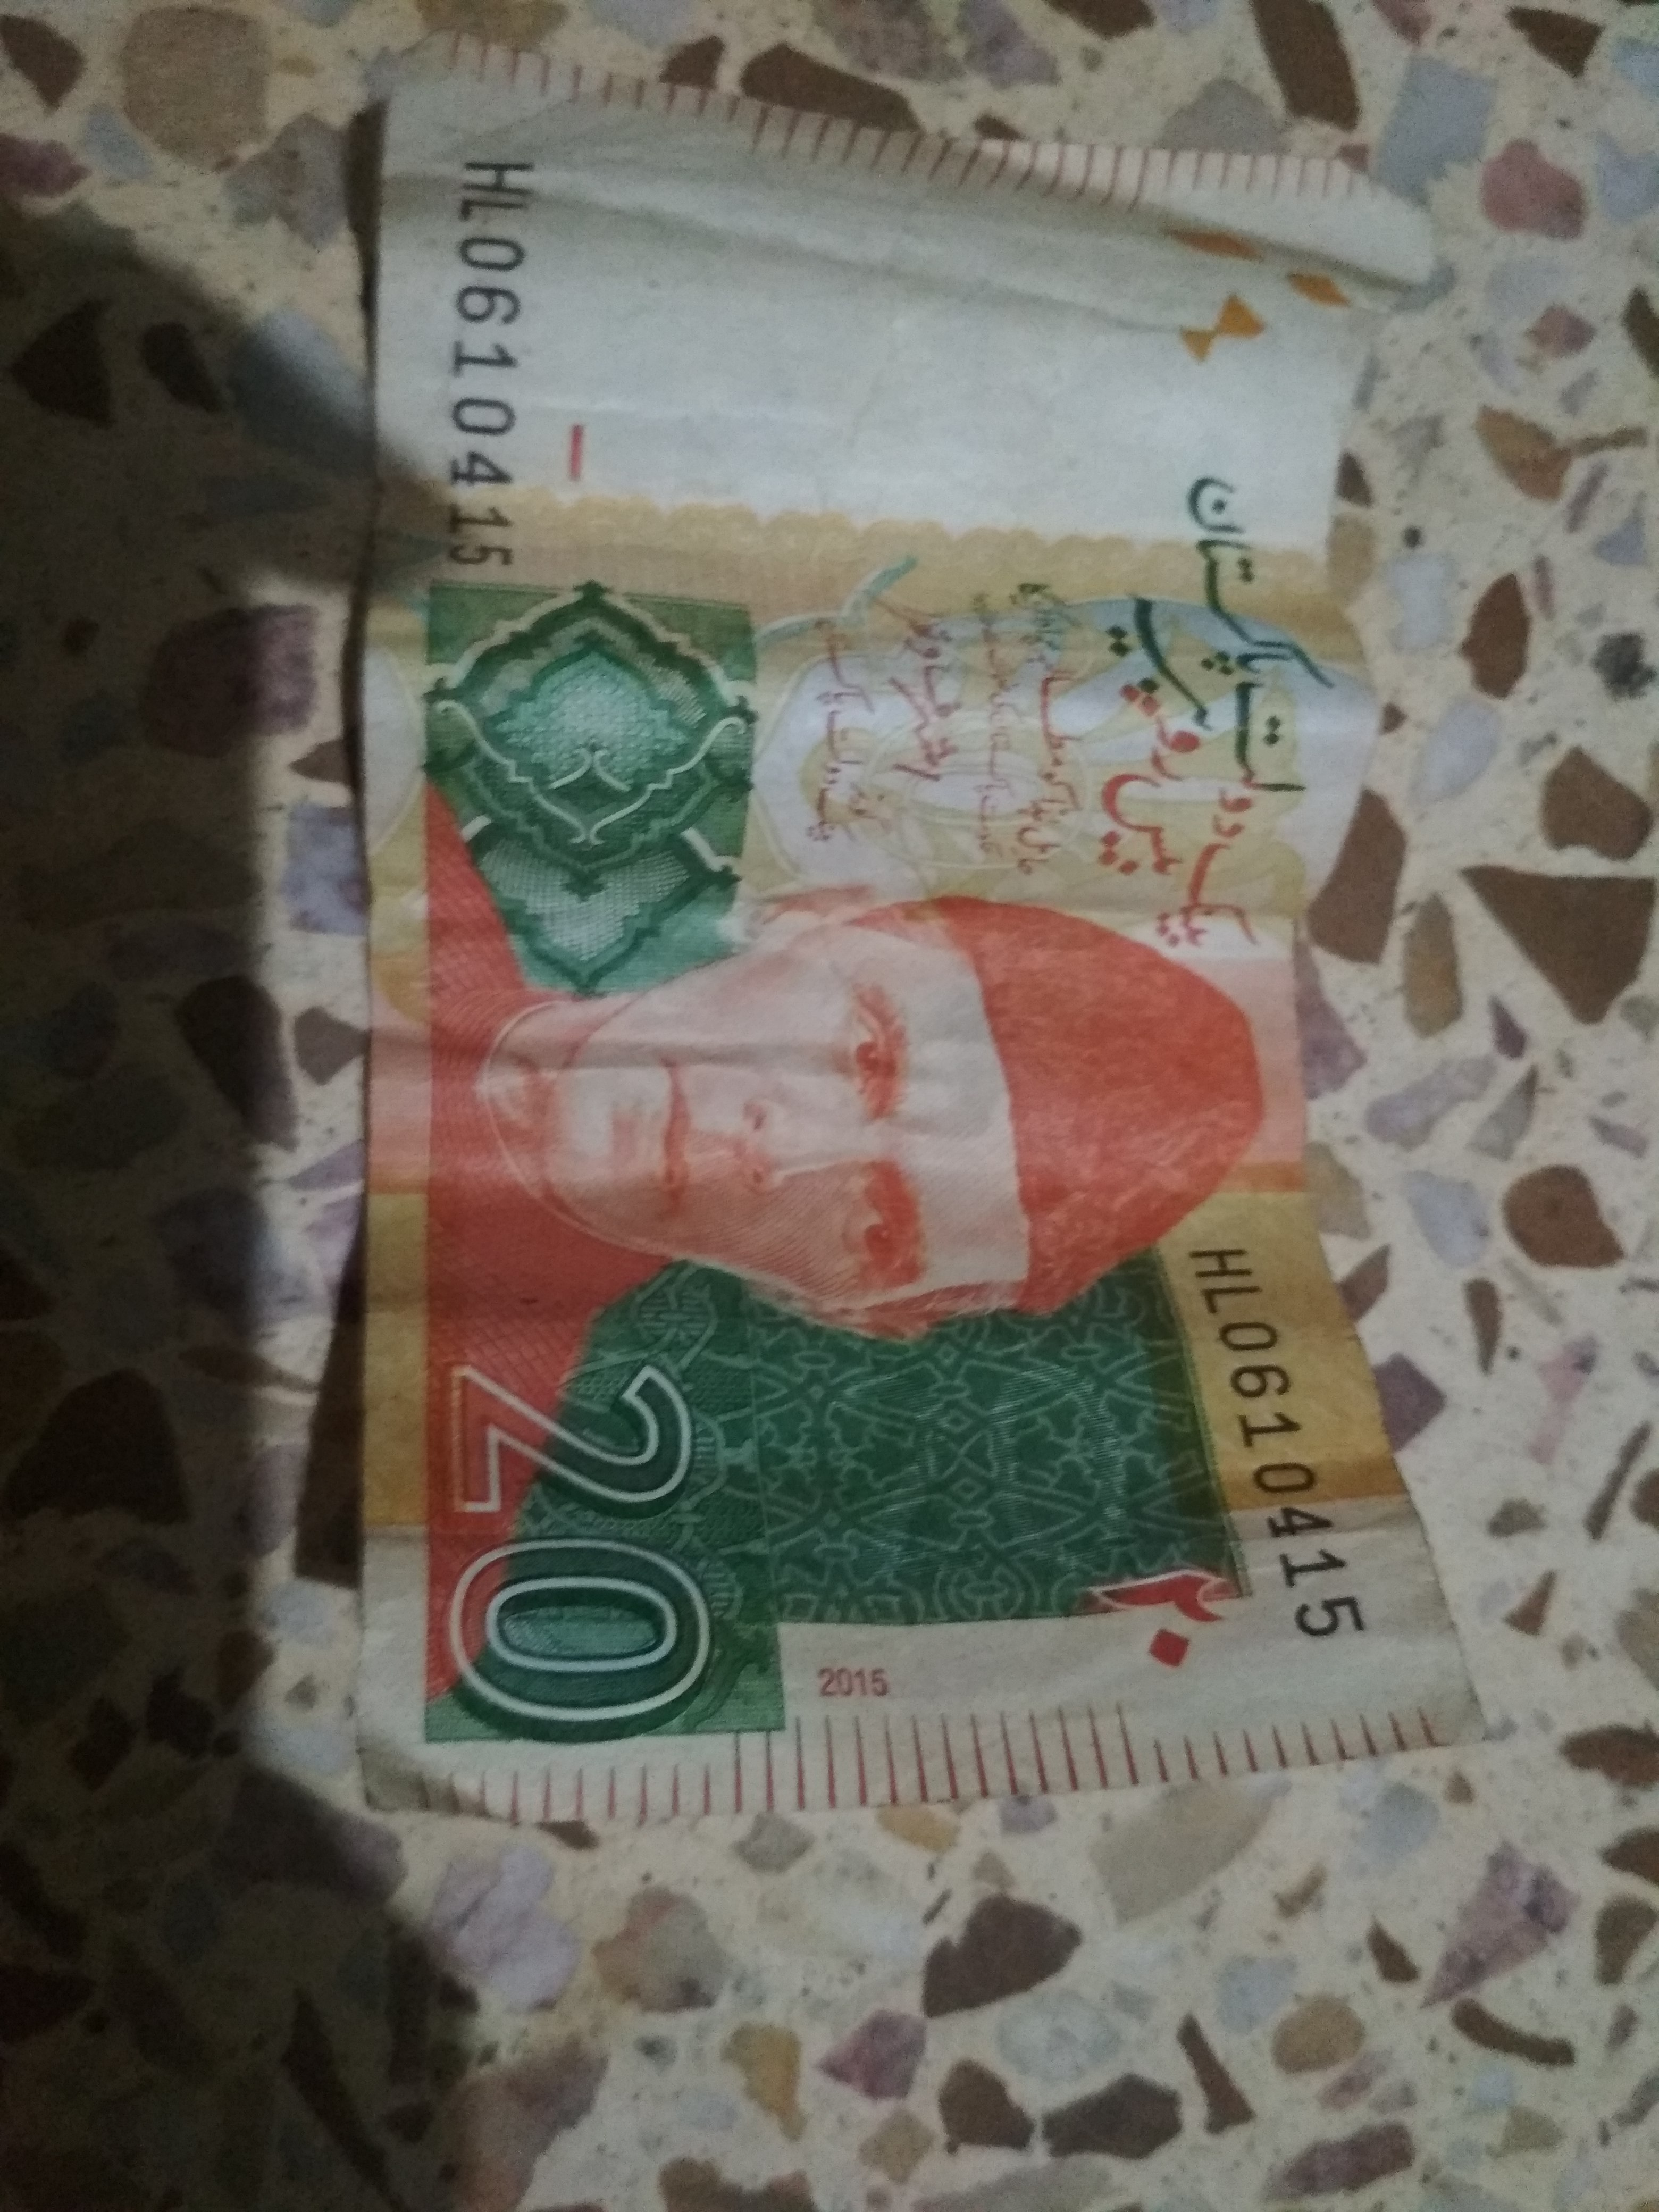20 rupee: (260, 56, 1450, 1892)
